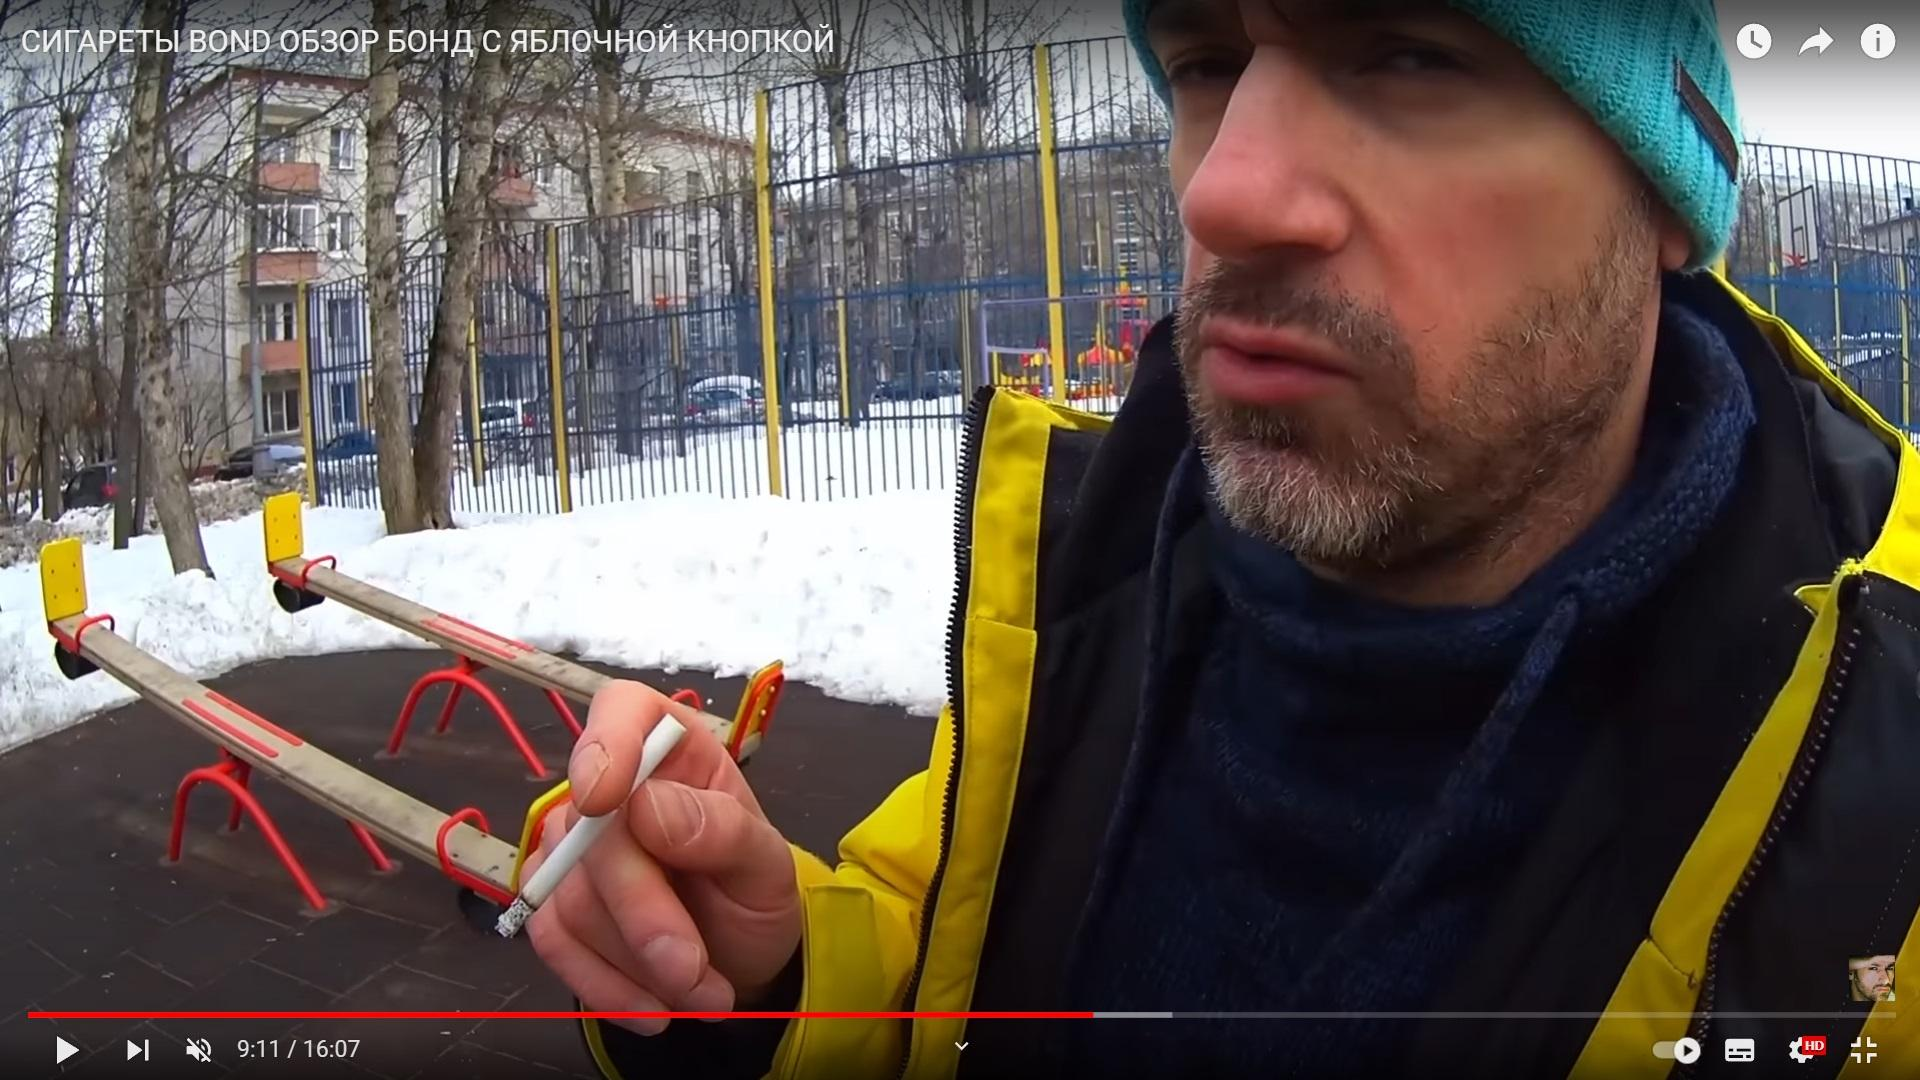cigarette: (493, 711, 688, 939)
